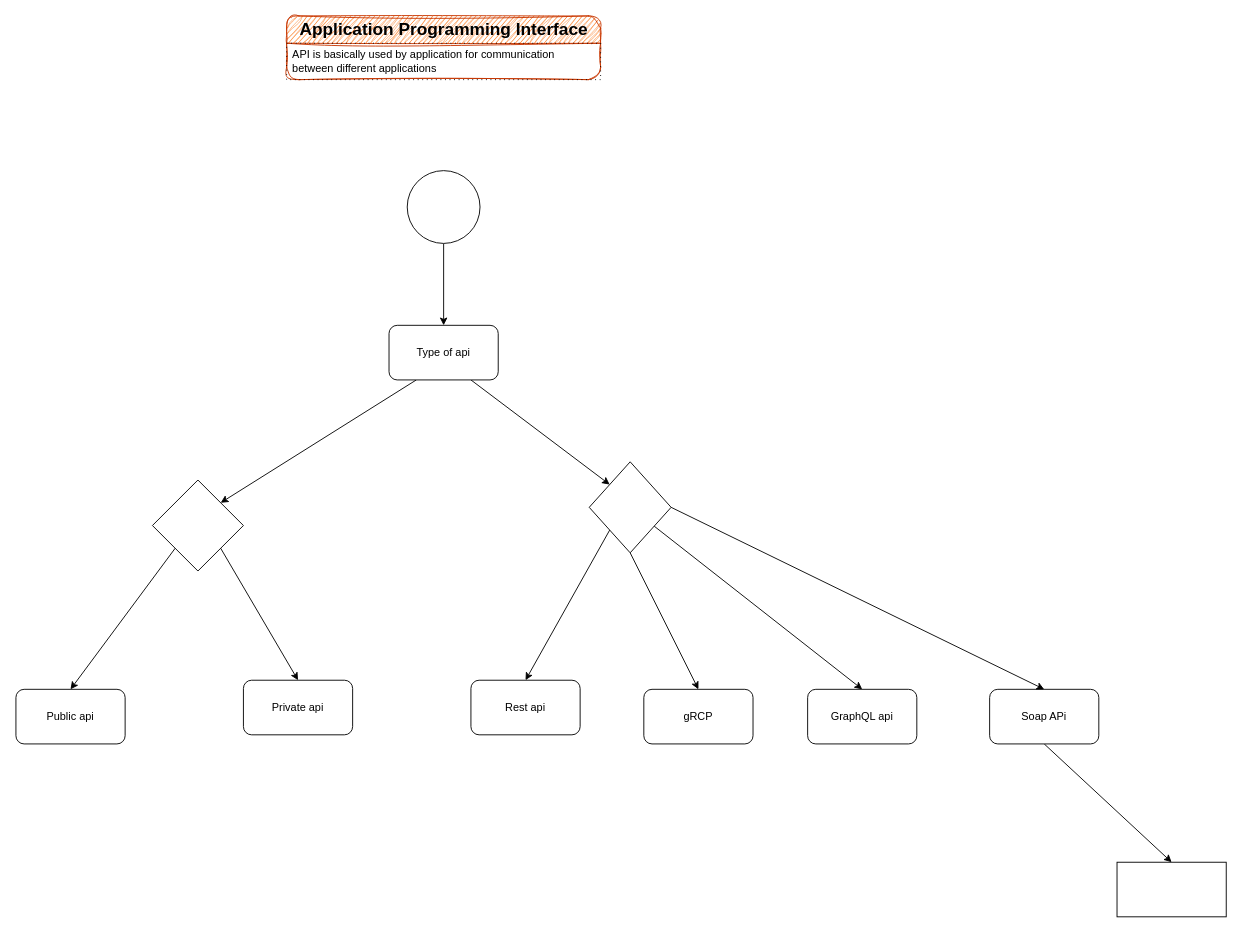
The diagram is 1242 pixels wide and 933 high, and some of its shapes have lost their labels. Each missing label, with the centre of its shape:
"Accessibility types" goes at (197,525).
"API" goes at (443,206).
"Architectural type" goes at (629,507).
"Legacy" goes at (1171,889).
